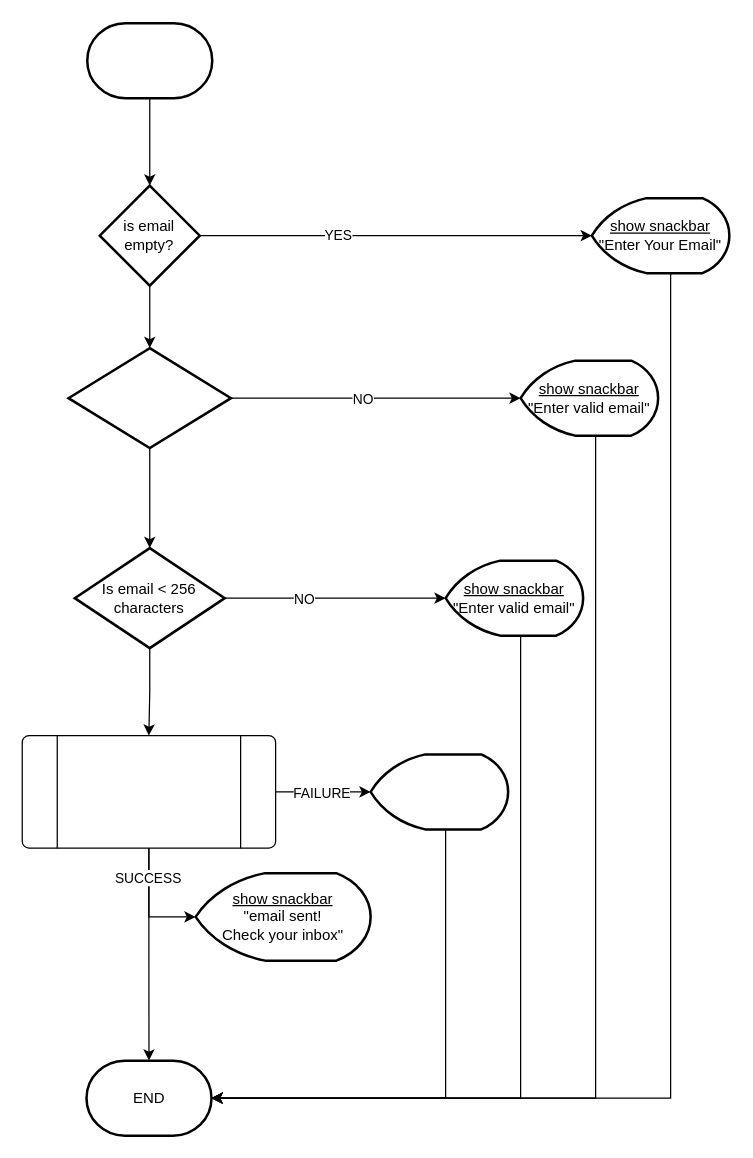
Image size: 753x1158. Some labels were removed from this diagram. The shapes that lost their labels are listed below. From the top down, each one's centre as x and y in pixels, then its label:
point (149, 60): START
point (149, 397): does email follow RegEx formula?
point (148, 791): FirebaseAuth SendPasswordResetEmail
point (439, 791): show snackbar "reset failed: ${e.message}"
